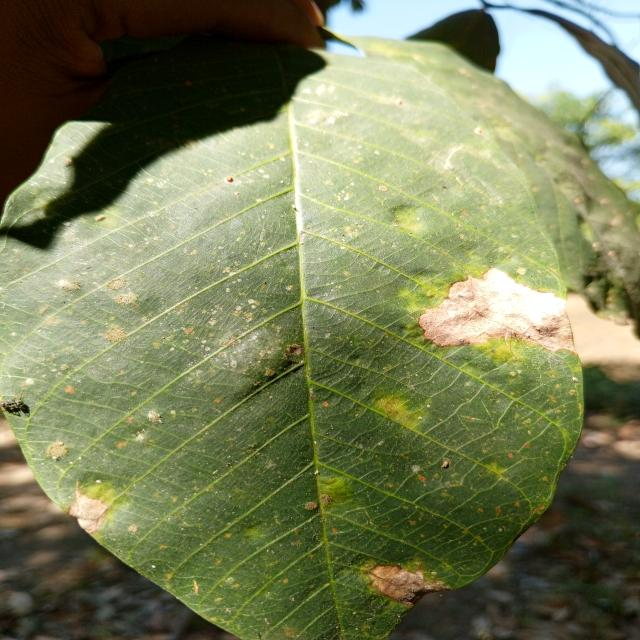Colletotrichum: (491, 350, 494, 352)
Leaf-Blight: (418, 267, 576, 354), (368, 564, 446, 606)
